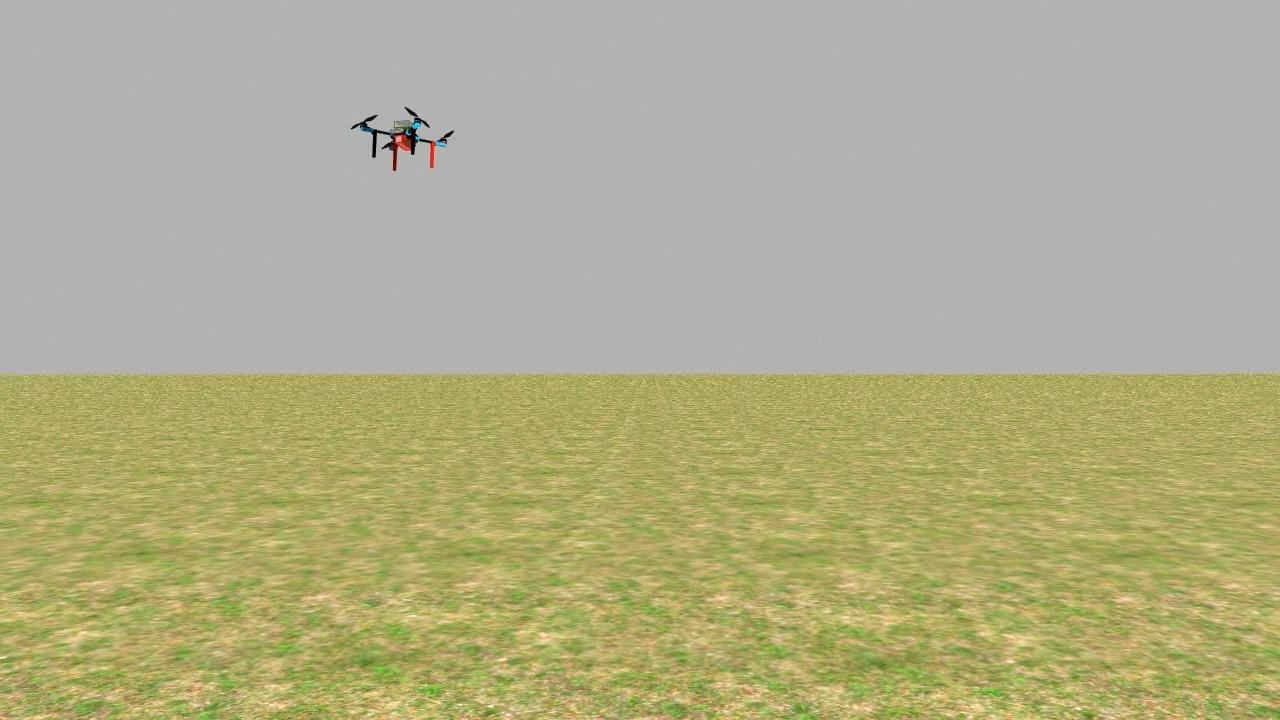UAV: (342, 89, 471, 187)
